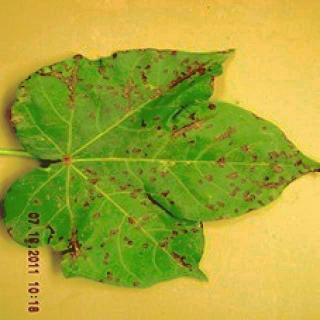blight: (26, 44, 316, 290)
